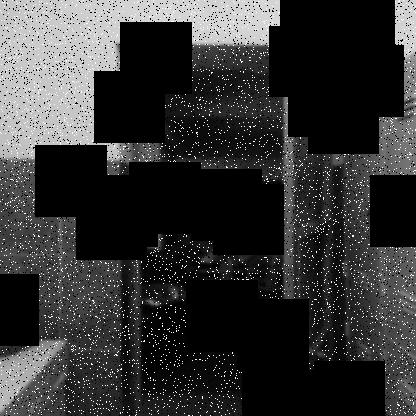Porte: (126, 2, 333, 415)
